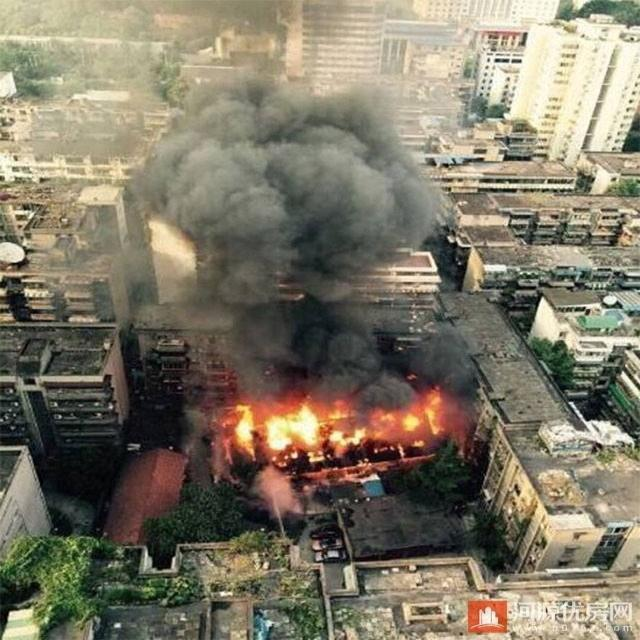Fire: (224, 389, 446, 484)
Smoke: (81, 0, 480, 395)
